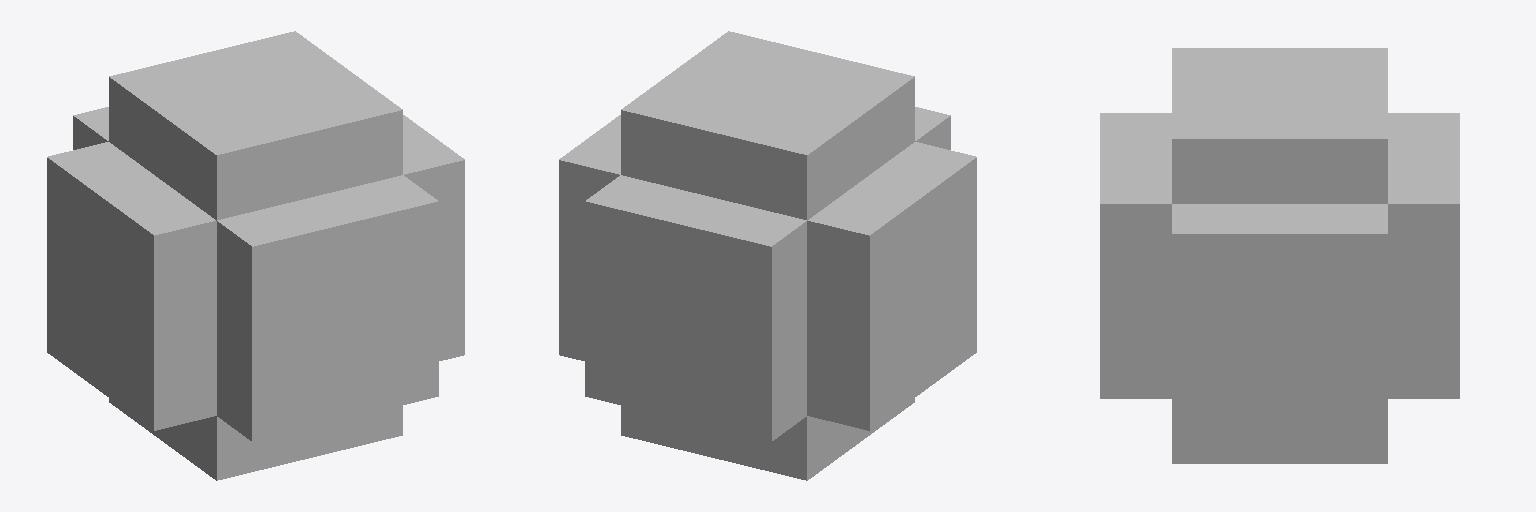
File: musket ball.obj
The picture shows the model from 3 angles: view 1: azimuth 30°, elevation 25°; view 2: azimuth 150°, elevation 25°; view 3: azimuth 270°, elevation 25°; orthographic projection.
Bounding box in the file's own units: 5 × 5 × 5.